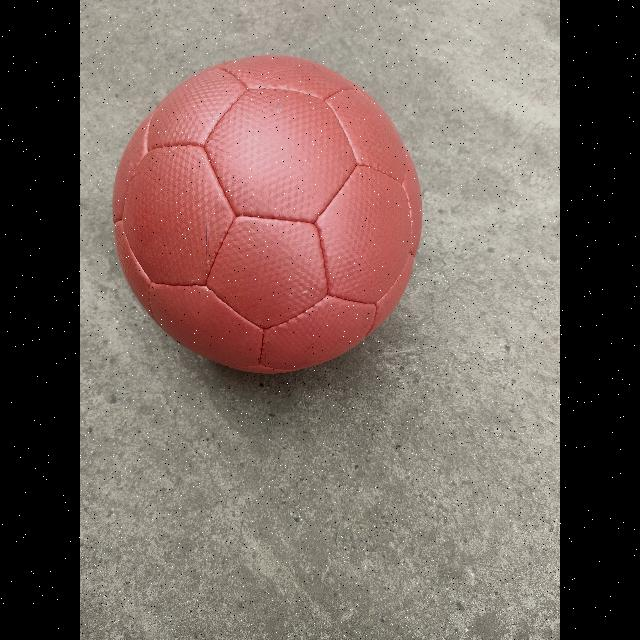R: (112, 56, 422, 372)
